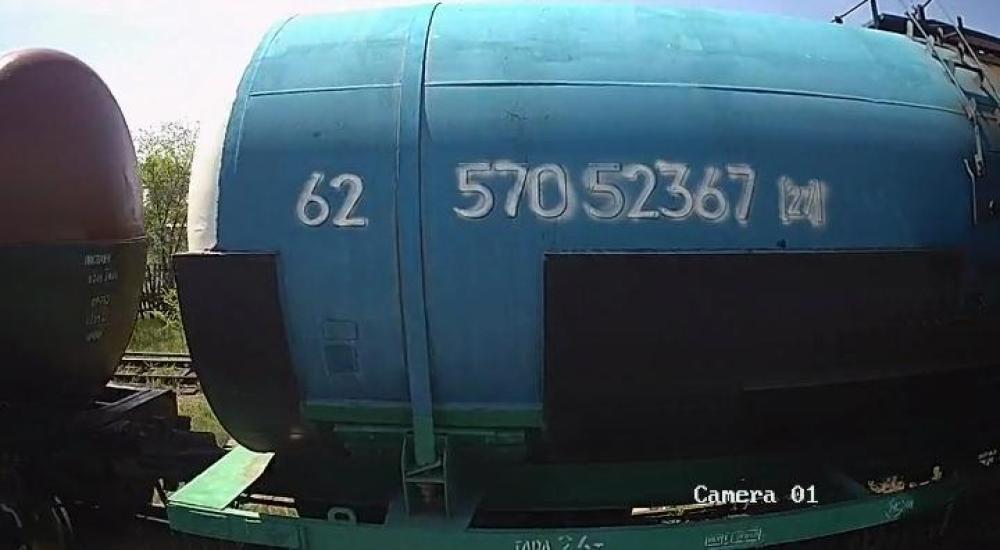Wagon-number: (451, 157, 765, 225)
